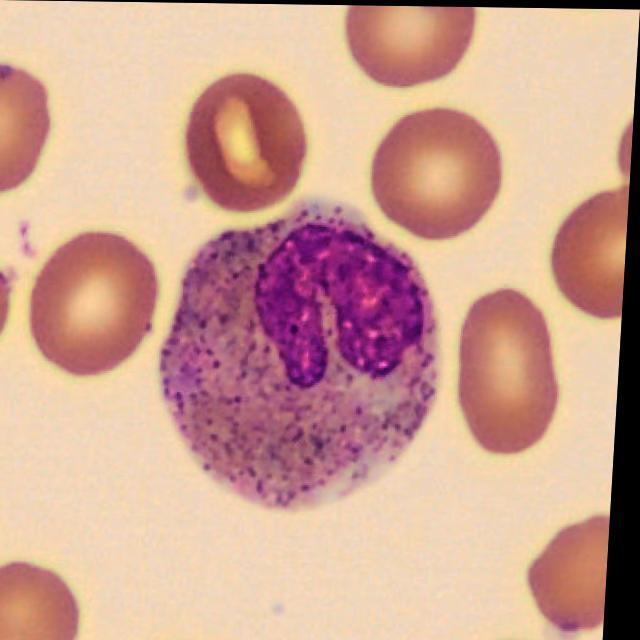Neutrofilo segmentado: (164, 204, 445, 509)
